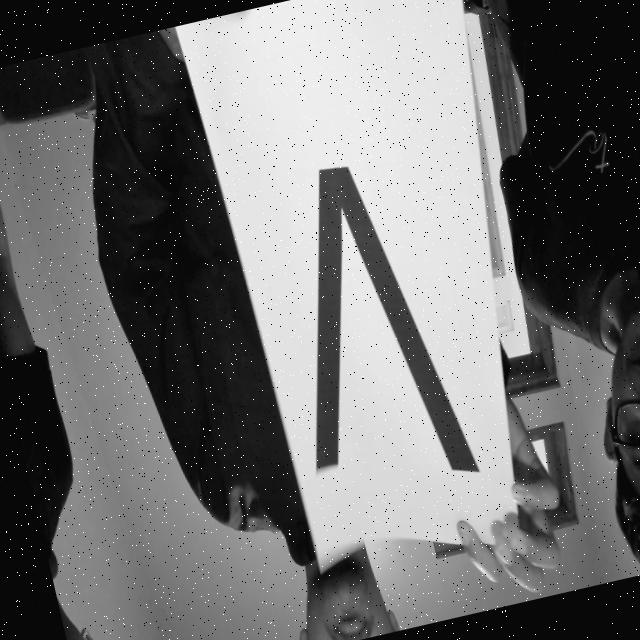v: (239, 124, 492, 526)
